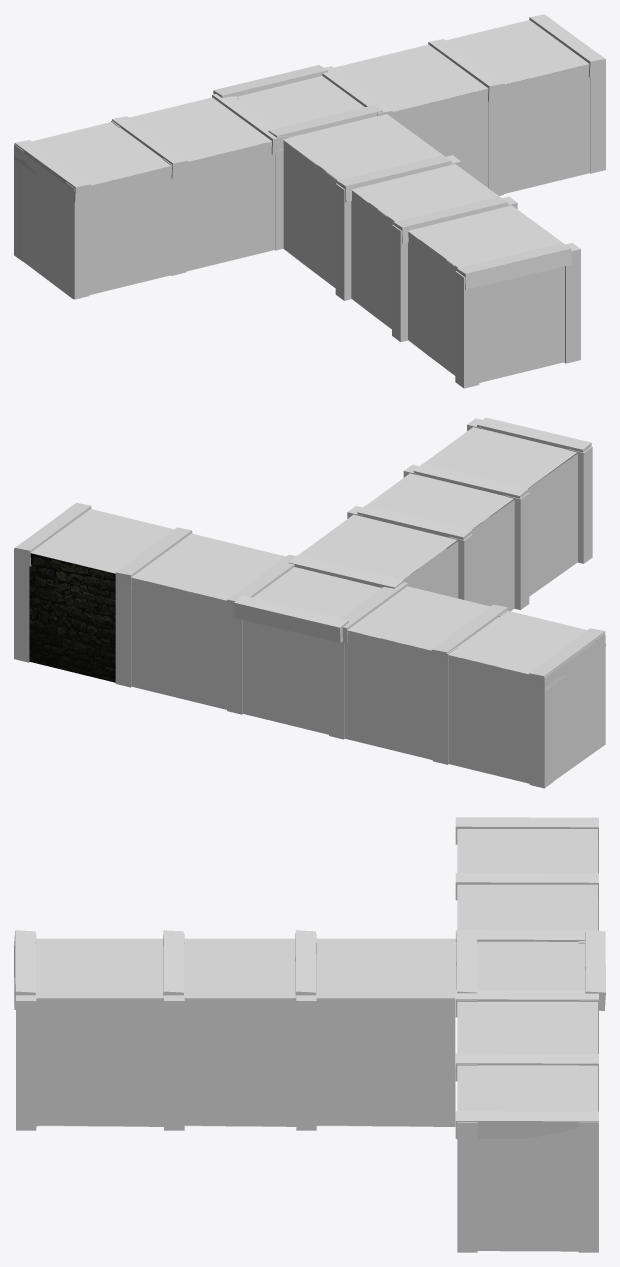
The model's file is wall01.fbx.
The picture shows the model from 3 angles, top to bottom: view 1: azimuth 30°, elevation 25°; view 2: azimuth 150°, elevation 25°; view 3: azimuth 270°, elevation 25°; orthographic projection. The views are drawn at different scales.
Parts seen in each view (by area): view 1: Cube.017, Cube.011, Cube.003, Cube.045, Floor01.013, Cube.030, Floor01.007, Cube.029, Floor01.015, Cube.043, Cube.010, Floor01.006 (+26 smaller); view 2: Cube.009, Cube.001, Cube.008, Cube.018, Cube.002, Cube.029, Floor01.013, Floor01.007, Cube.043, Floor01.015, Floor01.006, Floor01.009 (+25 smaller); view 3: Cube.031, Cube.044, Cube.038, Cube.047, Floor01.013, Floor01.015, Floor01.007, Floor01.014, Floor01.006, Floor01.009, Floor01.005, Floor01.008 (+16 smaller).
Part boxes in pixels (bbox=[...]): Cube.017: bbox=[186, 141, 275, 271]; Cube.011: bbox=[504, 64, 590, 193]; Cube.003: bbox=[89, 166, 171, 294]; Cube.045: bbox=[479, 266, 564, 382]; Floor01.013: bbox=[283, 114, 444, 180]; Cube.030: bbox=[283, 140, 336, 287]; Floor01.007: bbox=[334, 44, 488, 111]; Cube.029: bbox=[23, 152, 73, 298]; Floor01.015: bbox=[408, 205, 564, 267]; Cube.043: bbox=[408, 232, 456, 375]; Cube.010: bbox=[392, 89, 488, 187]; Floor01.006: bbox=[446, 20, 588, 84]; Cube.009: bbox=[131, 578, 226, 709]; Cube.001: bbox=[344, 630, 432, 759]; Cube.008: bbox=[29, 553, 115, 682]; Cube.018: bbox=[448, 655, 529, 783]; Cube.002: bbox=[242, 620, 328, 734]; Cube.029: bbox=[553, 636, 605, 781]; Floor01.013: bbox=[298, 514, 456, 579]; Floor01.007: bbox=[131, 533, 285, 600]; Cube.043: bbox=[528, 453, 577, 595]; Floor01.015: bbox=[423, 427, 576, 488]; Floor01.006: bbox=[31, 509, 173, 573]; Floor01.009: bbox=[347, 586, 489, 650]; Cube.031: bbox=[316, 998, 455, 1126]; Cube.044: bbox=[36, 998, 163, 1126]; Cube.038: bbox=[184, 998, 296, 1126]; Cube.047: bbox=[477, 1128, 578, 1251]; Floor01.013: bbox=[316, 938, 456, 998]; Floor01.015: bbox=[35, 938, 163, 998]; Floor01.007: bbox=[457, 1001, 597, 1053]; Floor01.014: bbox=[184, 938, 296, 998]; Floor01.006: bbox=[457, 1065, 597, 1111]; Floor01.009: bbox=[457, 884, 597, 930]; Floor01.005: bbox=[457, 829, 597, 873]; Floor01.008: bbox=[477, 941, 585, 990].
Bounding box in the file's own units: 1022 × 210 × 840.
